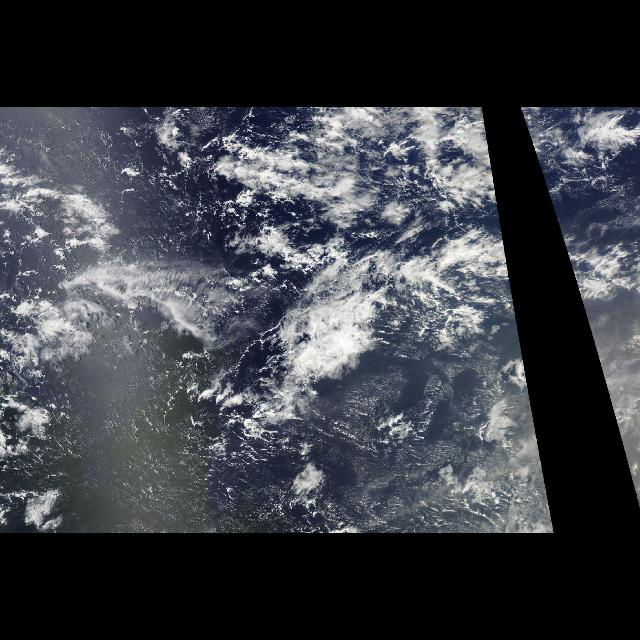Gravel: (103, 260, 524, 498)
Sugar: (29, 123, 244, 524), (328, 340, 522, 526)
